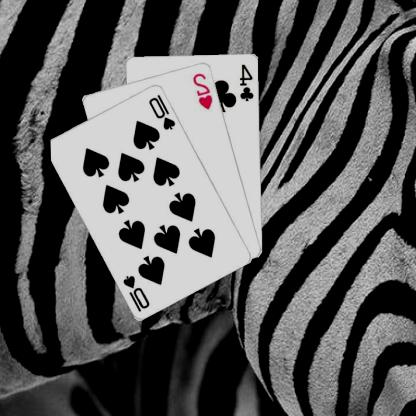10S: (122, 272, 153, 313), (148, 91, 179, 131)
2H: (192, 70, 216, 111)
4C: (239, 62, 256, 102)
